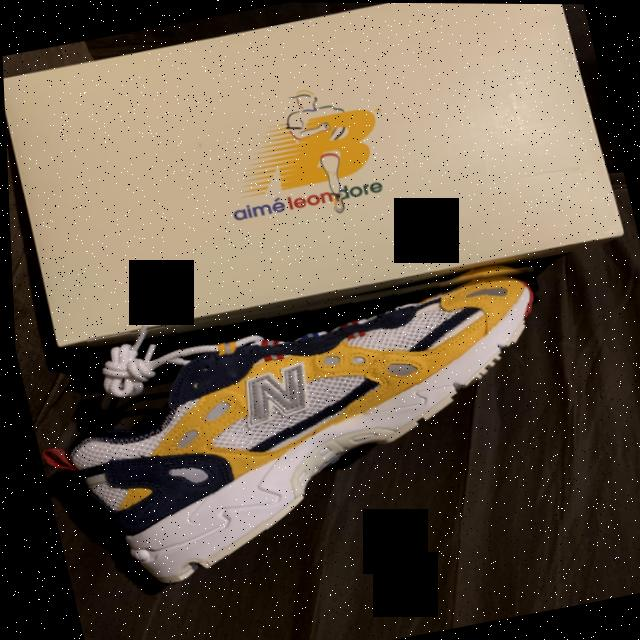shoe: (14, 251, 591, 613)
